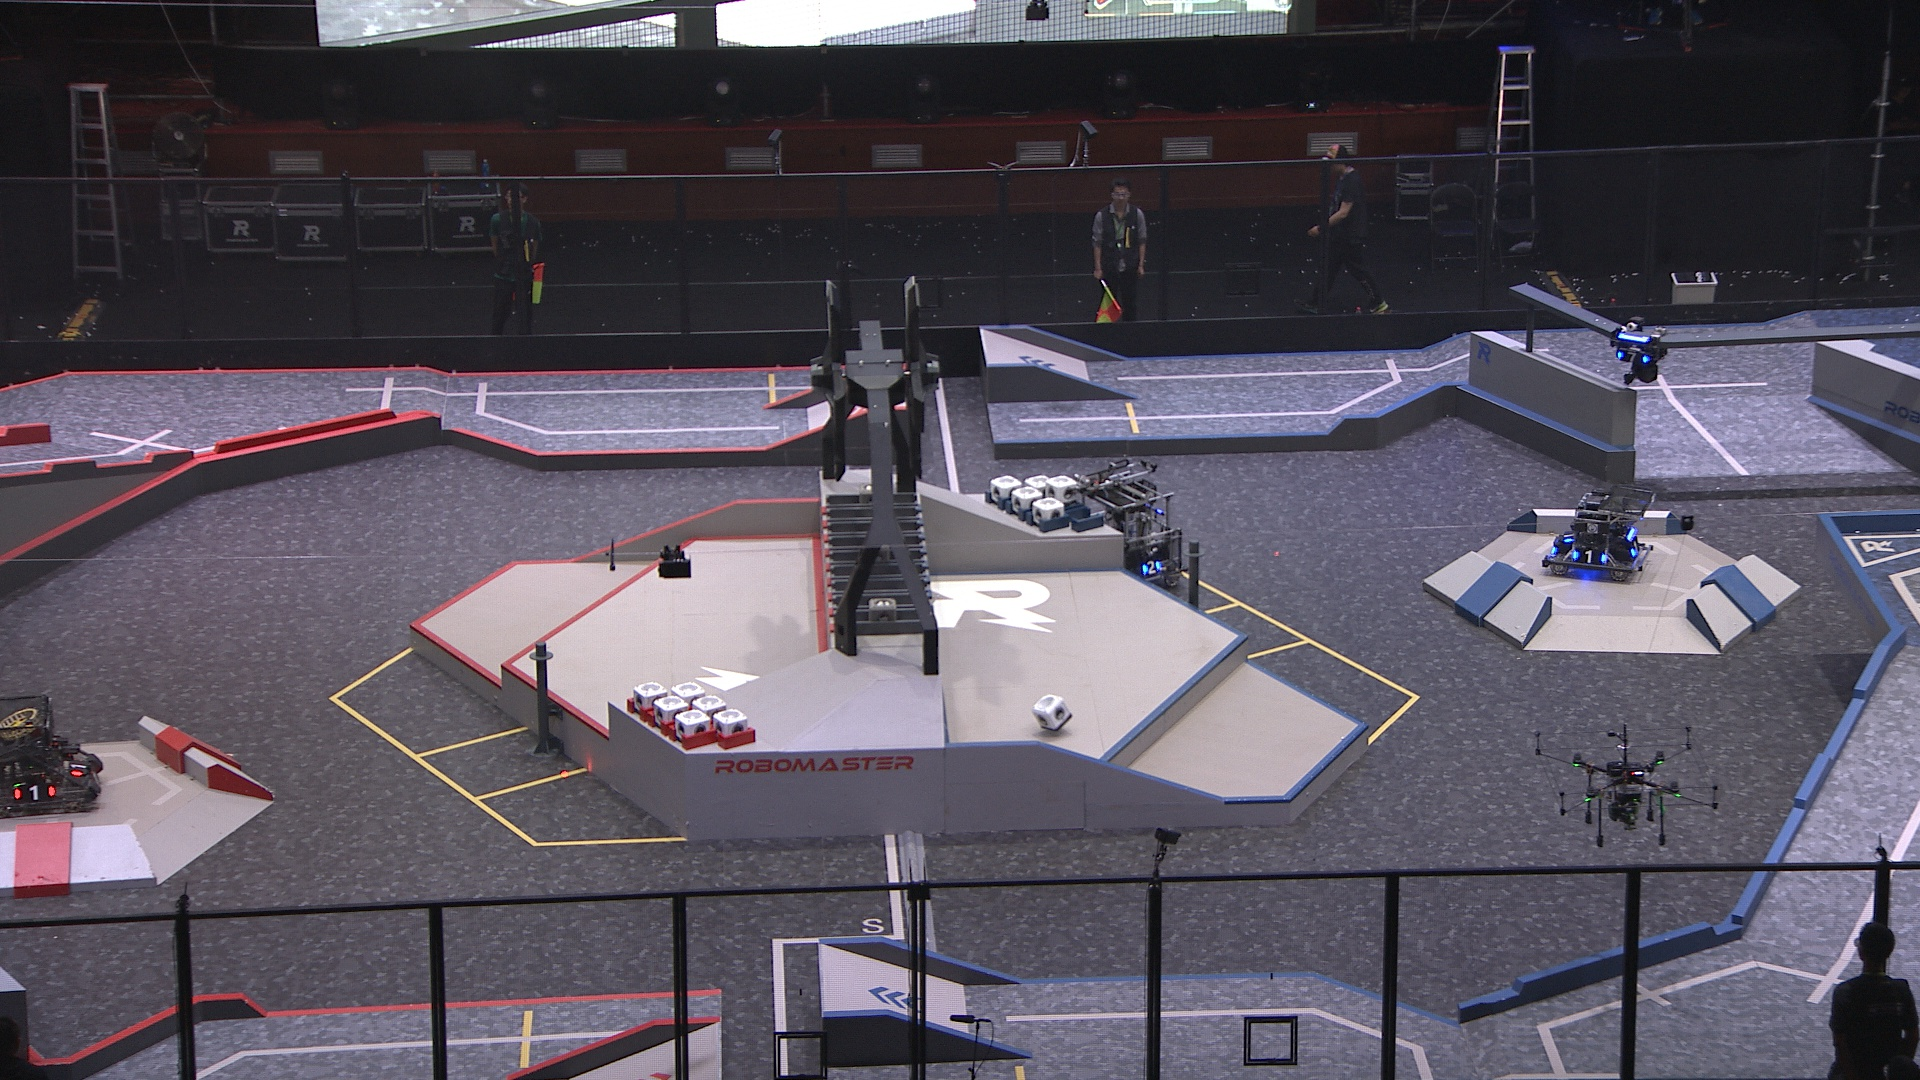armor: (12, 783, 53, 800), (1615, 349, 1650, 367), (1575, 550, 1607, 567), (69, 750, 86, 779), (1139, 559, 1163, 579), (1629, 541, 1642, 562), (1563, 529, 1575, 549)
car: (1069, 458, 1188, 597), (1539, 488, 1654, 585)
watcher: (1605, 320, 1673, 384)
